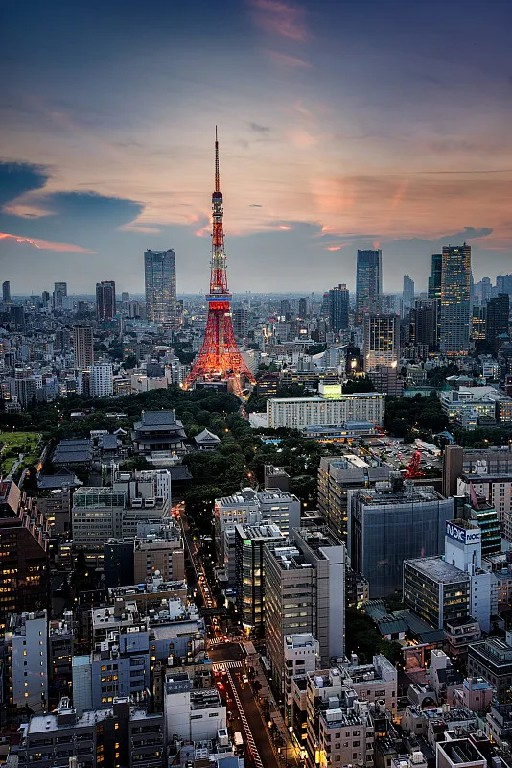Tokyo: (183, 120, 256, 400)
